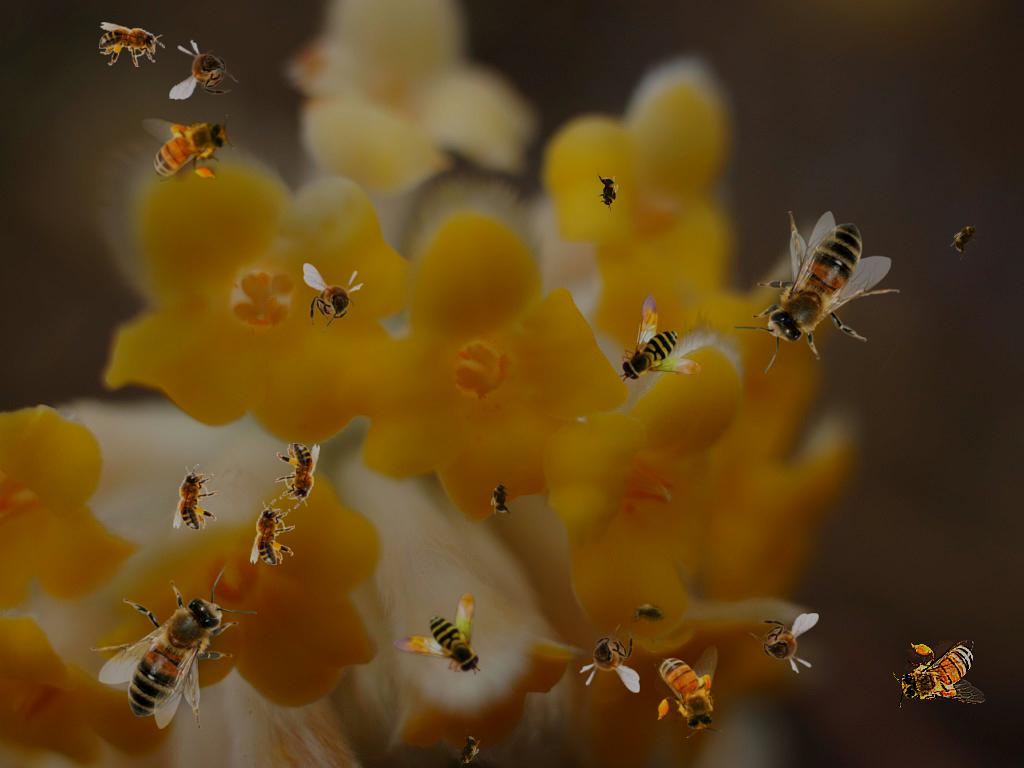Bee: (733, 211, 900, 373), (90, 567, 257, 729), (619, 294, 701, 382), (393, 593, 481, 675), (893, 640, 986, 708), (654, 645, 722, 738), (141, 114, 234, 182), (168, 38, 241, 102), (579, 623, 640, 693), (749, 613, 819, 674), (303, 263, 364, 333), (275, 443, 320, 509), (250, 499, 295, 565), (173, 464, 218, 530), (99, 22, 165, 67), (944, 215, 988, 261), (447, 728, 487, 768), (628, 599, 672, 629), (490, 478, 512, 518), (597, 172, 619, 212)
